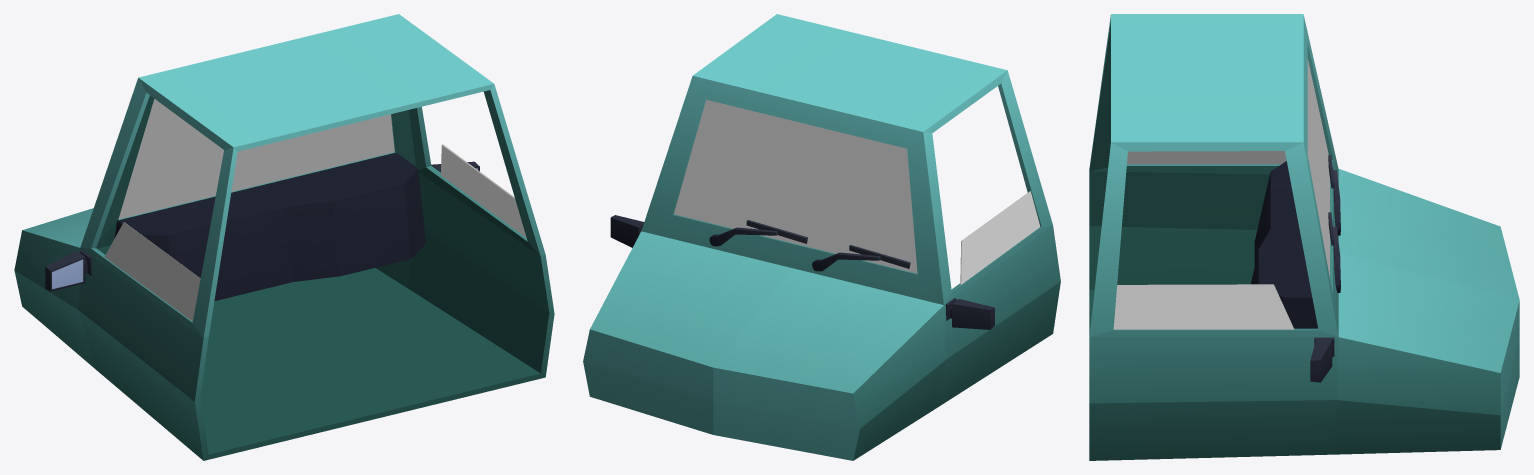
File: Mobil utama.fbx
The picture shows the model from 3 angles, left to right: view 1: azimuth 30°, elevation 25°; view 2: azimuth 150°, elevation 25°; view 3: azimuth 270°, elevation 25°; orthographic projection. The views are drawn at different scales.
Visible parts, largest first — view 1: Mobil utama; view 2: Mobil utama; view 3: Mobil utama.
Part boxes in pixels (x1,y1,x2,y2): Mobil utama: [14, 14, 554, 460]; Mobil utama: [583, 14, 1060, 460]; Mobil utama: [1089, 14, 1519, 460].
Size of the model in its own units: 2.51 by 1.65 by 2.16.
